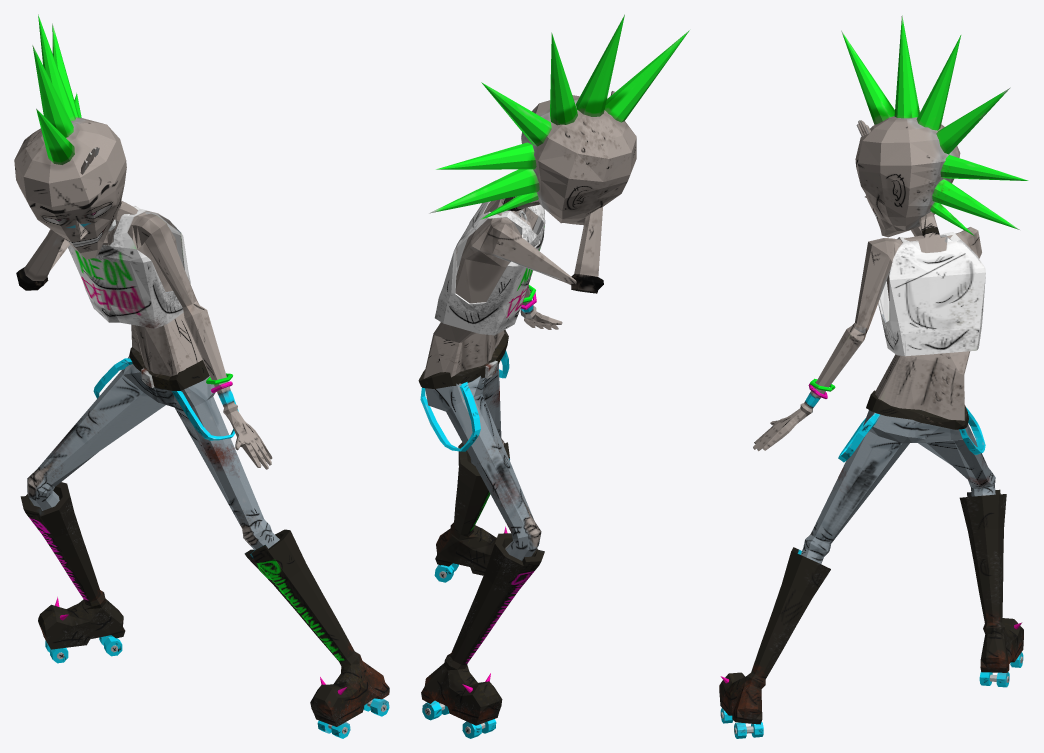
The model's file is punkAnimation_000069.obj.
The picture shows the model from 3 angles, left to right: view 1: azimuth 30°, elevation 25°; view 2: azimuth 150°, elevation 25°; view 3: azimuth 270°, elevation 25°; orthographic projection. The views are drawn at different scales.
Visible parts, largest first — view 1: Cube.004_Cube.003; view 2: Cube.004_Cube.003; view 3: Cube.004_Cube.003.
Boxes of the visible parts, <box> form: Cube.004_Cube.003: <box>14,14,389,738</box>; Cube.004_Cube.003: <box>418,14,689,738</box>; Cube.004_Cube.003: <box>719,15,1028,738</box>.
Bounding box in the file's own units: 3.09 × 6.72 × 3.07.
